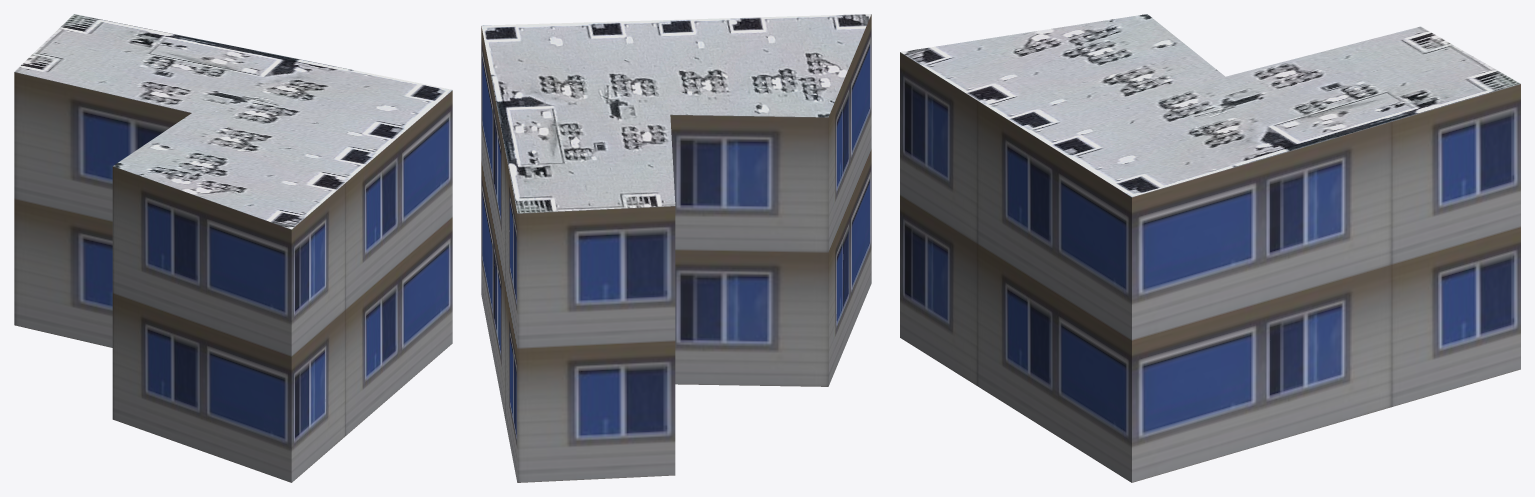
Rendered from ResTex__1600.fbx.
3 renders of one model, left to right at view 1: azimuth 30°, elevation 25°; view 2: azimuth 150°, elevation 25°; view 3: azimuth 270°, elevation 25°, orthographic. The views are drawn at different scales.
Visible parts, largest first — view 1: CityEngineMaterial_23_m, CityEngineMaterial_m; view 2: CityEngineMaterial_23_m, CityEngineMaterial_m; view 3: CityEngineMaterial_23_m, CityEngineMaterial_m.
Boxes of the visible parts, bbox=[...] form: CityEngineMaterial_23_m: bbox=[14, 72, 452, 482]; CityEngineMaterial_m: bbox=[14, 14, 452, 229]; CityEngineMaterial_23_m: bbox=[481, 14, 871, 482]; CityEngineMaterial_m: bbox=[481, 14, 871, 213]; CityEngineMaterial_23_m: bbox=[900, 52, 1520, 482]; CityEngineMaterial_m: bbox=[900, 14, 1520, 196].
Size of the model in its own units: 8.25 by 6 by 11.82.
Materials: 2 (2 with a texture image).
